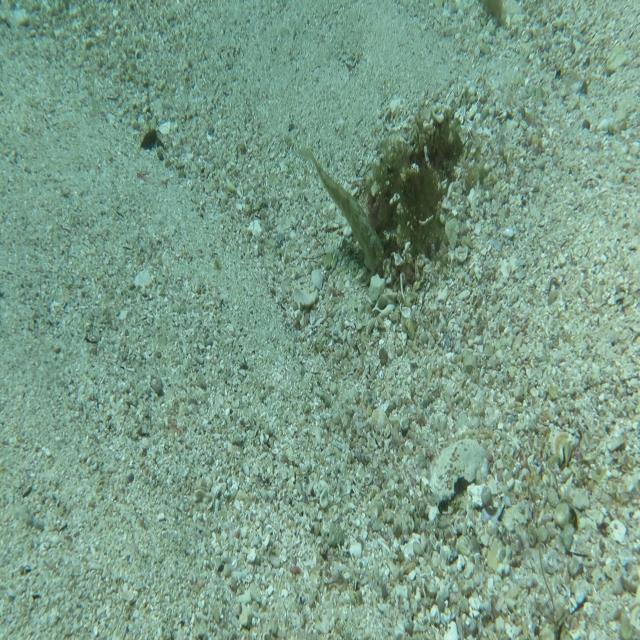NIP_IN: (294, 143, 392, 284)
core_nest: (424, 125, 458, 160)
nest: (361, 102, 477, 288)
vegetation: (474, 0, 506, 28), (140, 126, 160, 153)
